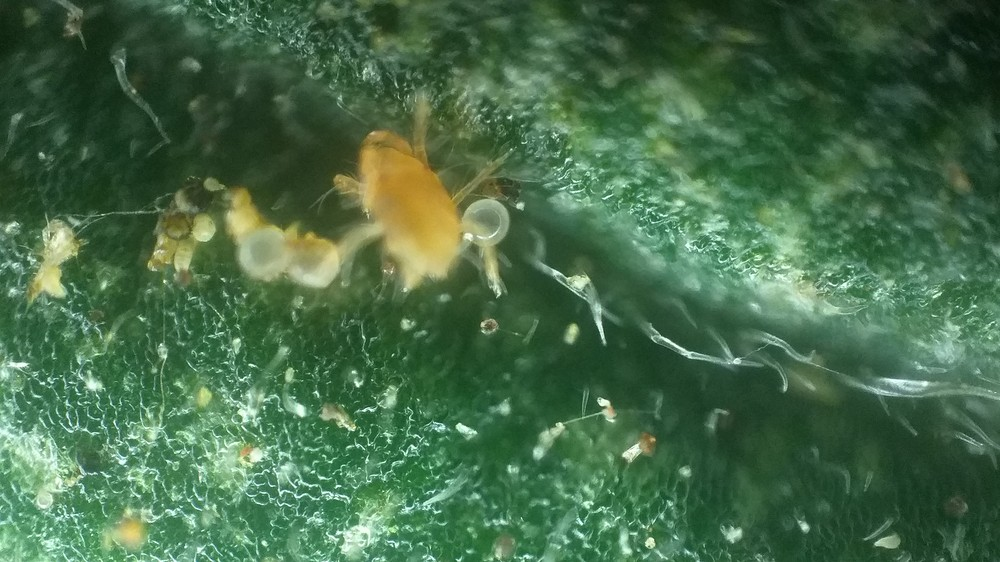Aracnido Rojo: (325, 107, 556, 318)
